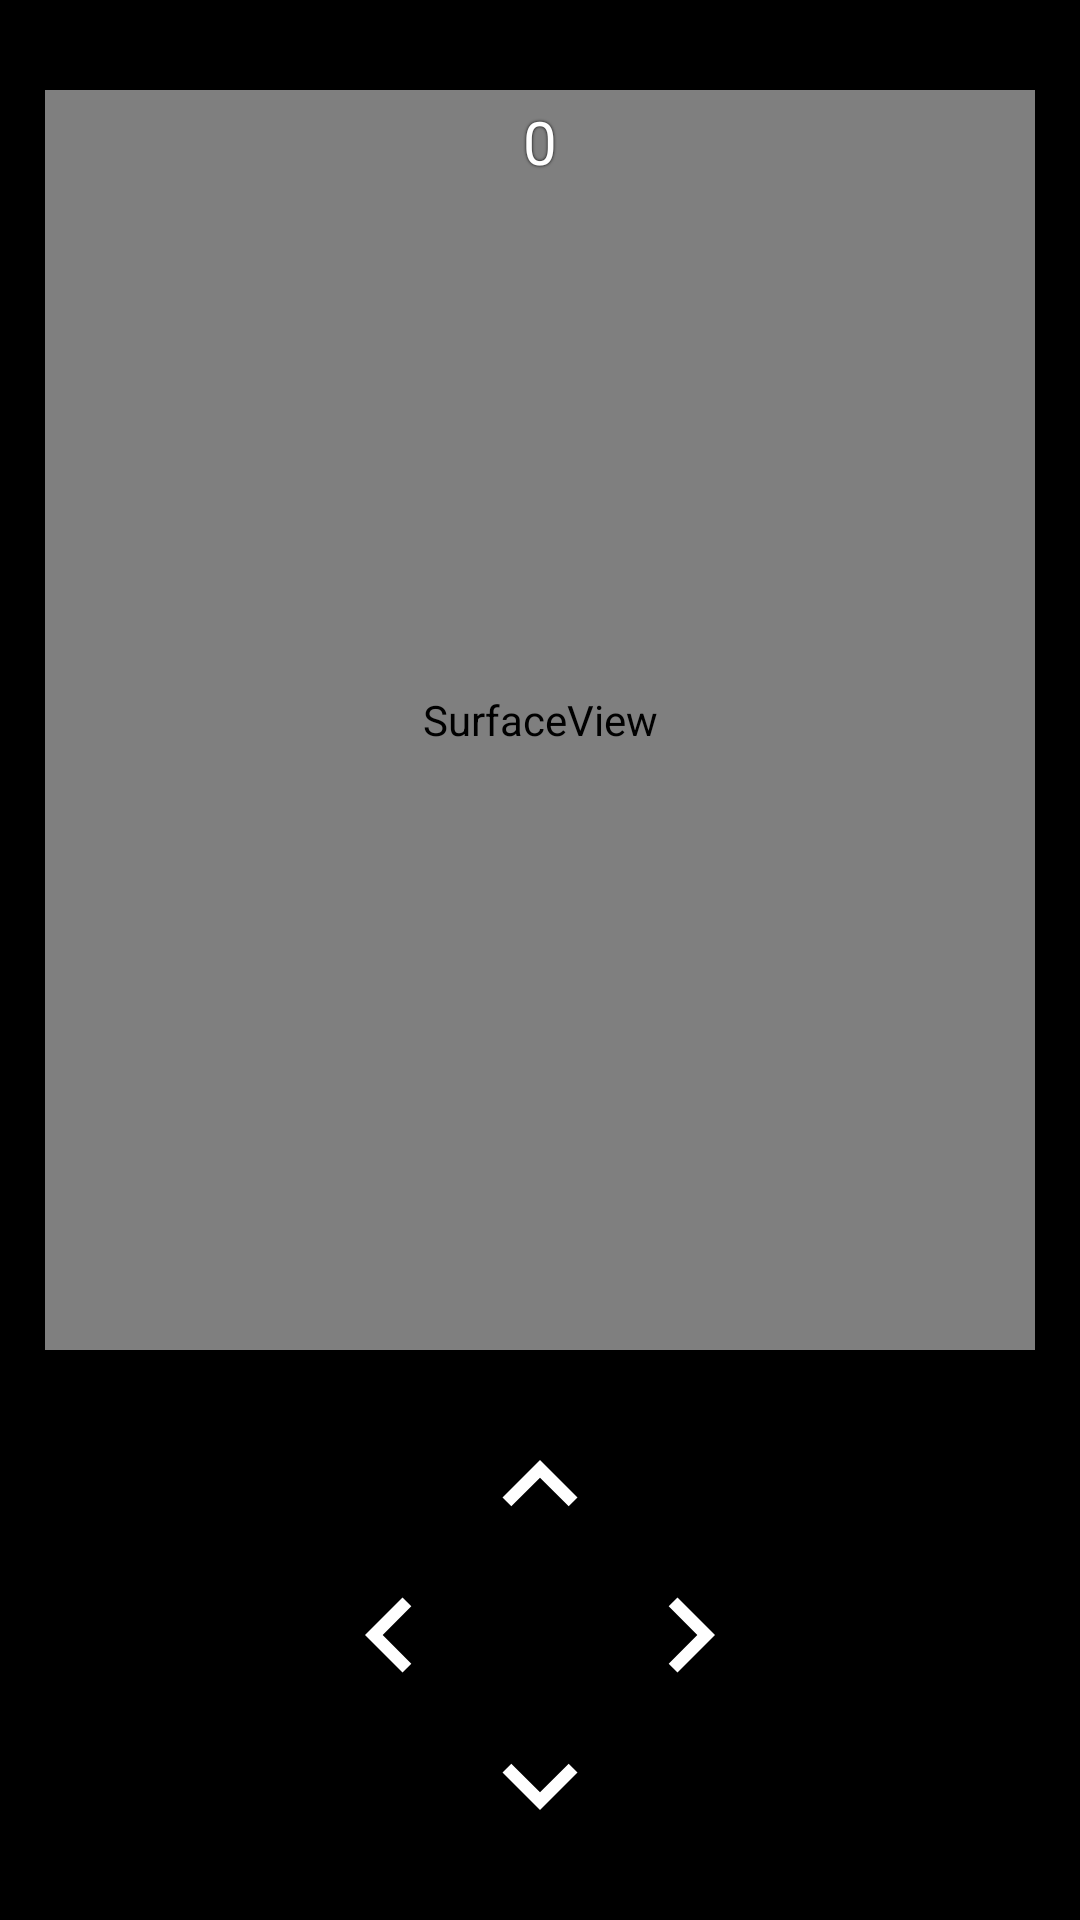

Named icons in this screenshot (1080×1920) and their bounding boxes, bbox=[x1, y1, x2, y2]:
arrow down: bbox=[502, 1764, 578, 1810]
arrow left: bbox=[365, 1597, 411, 1673]
arrow right: bbox=[669, 1597, 715, 1673]
arrow up: bbox=[502, 1460, 578, 1506]
